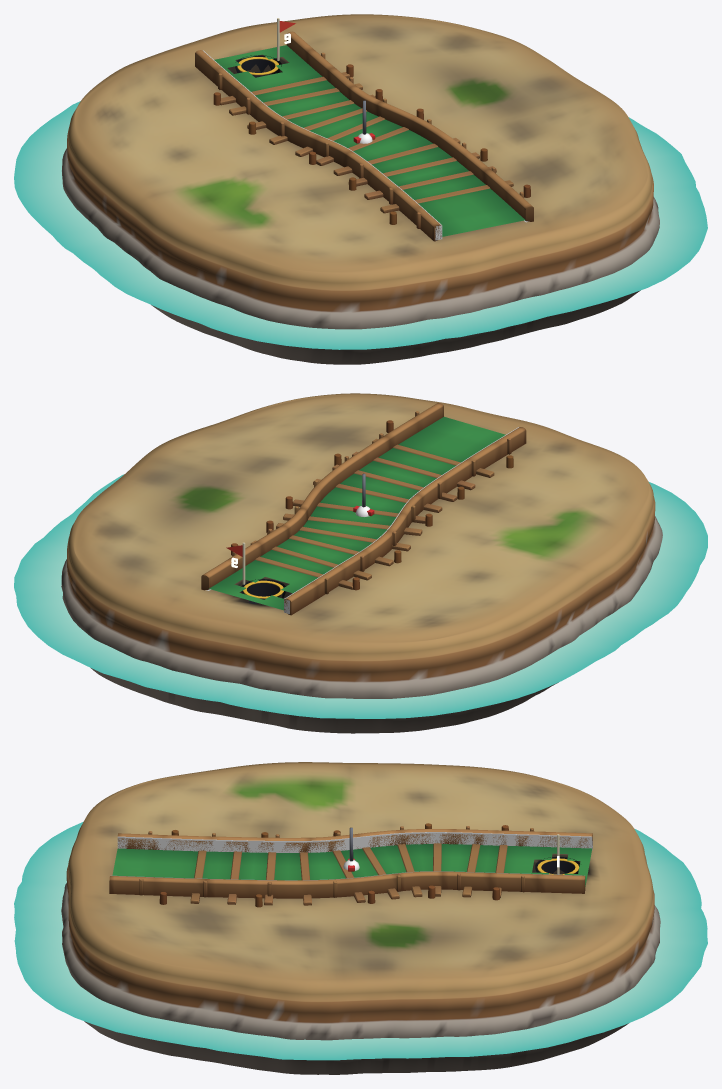
The model's file is course-09.glb.
The picture shows the model from 3 angles, top to bottom: view 1: azimuth 30°, elevation 25°; view 2: azimuth 150°, elevation 25°; view 3: azimuth 270°, elevation 25°; orthographic projection.
Parts seen in each view (by area): view 1: scenery-matte, water-shore, surface-grass, rail-trim-left, rail-trim-right; view 2: scenery-matte, water-shore, surface-grass, rail-trim-left, rail-trim-right; view 3: scenery-matte, water-shore, surface-grass, rail-trim-right, rail-left, rail-trim-left.
Boxes of the visible parts, box(x1,y1,x2,y2) form: scenery-matte: box(62, 14, 659, 364); water-shore: box(14, 101, 707, 349); surface-grass: box(214, 45, 525, 236); rail-trim-left: box(195, 50, 441, 241); rail-trim-right: box(286, 31, 533, 221); scenery-matte: box(61, 393, 662, 733); water-shore: box(14, 474, 707, 718); surface-grass: box(209, 416, 505, 610); rail-trim-left: box(284, 427, 526, 615); rail-trim-right: box(201, 403, 443, 590); scenery-matte: box(61, 762, 660, 1074); water-shore: box(14, 822, 707, 1060); surface-grass: box(112, 844, 591, 886); rail-trim-right: box(109, 871, 585, 898); rail-left: box(117, 832, 592, 852); rail-trim-left: box(117, 826, 592, 852).
Bounding box in the file's own units: 12.11 × 3.26 × 13.
